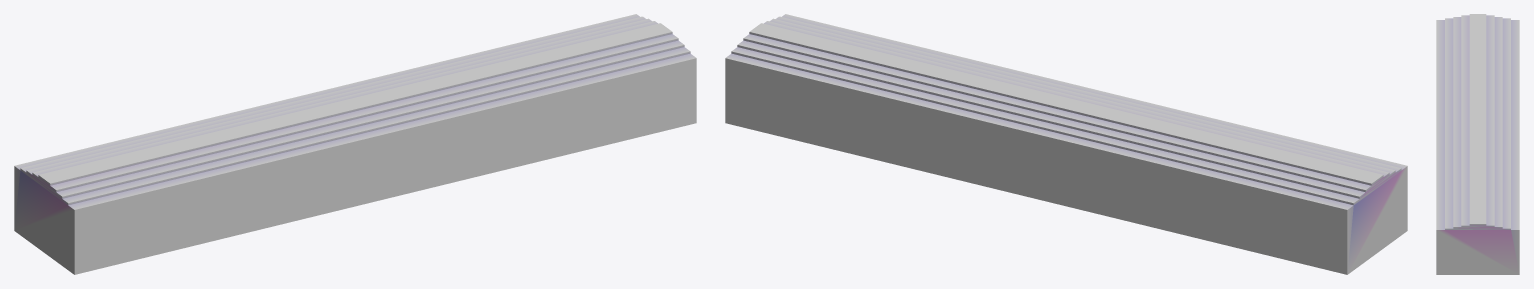
3 views of the same model, side by side, from view 1: azimuth 30°, elevation 25°; view 2: azimuth 150°, elevation 25°; view 3: azimuth 270°, elevation 25° (orthographic). The views are drawn at different scales.
Parts seen in each view (by area): view 1: bar; view 2: bar; view 3: bar.
Boxes of the visible parts, x1,y1,x2,y2 form: bar: (14, 14, 696, 274); bar: (725, 14, 1407, 274); bar: (1436, 14, 1519, 274).
Bounding box in the file's own units: 100 × 11.3 × 16.8.
